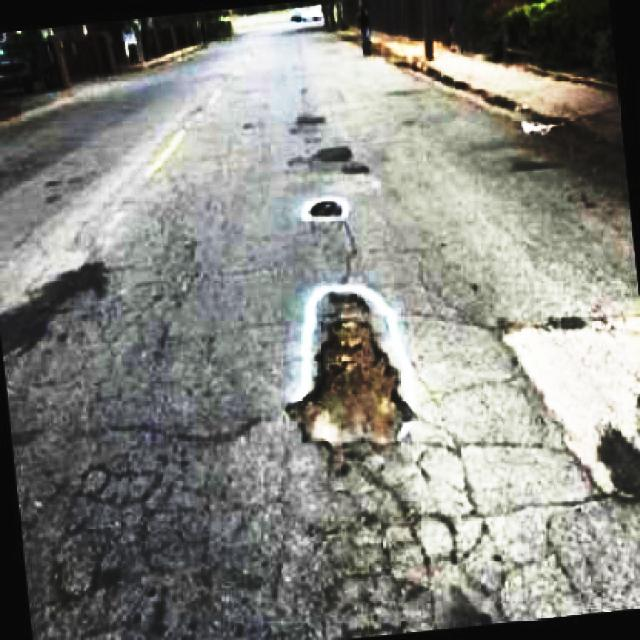pothole: (491, 294, 640, 509), (286, 282, 425, 462), (306, 192, 351, 225)
